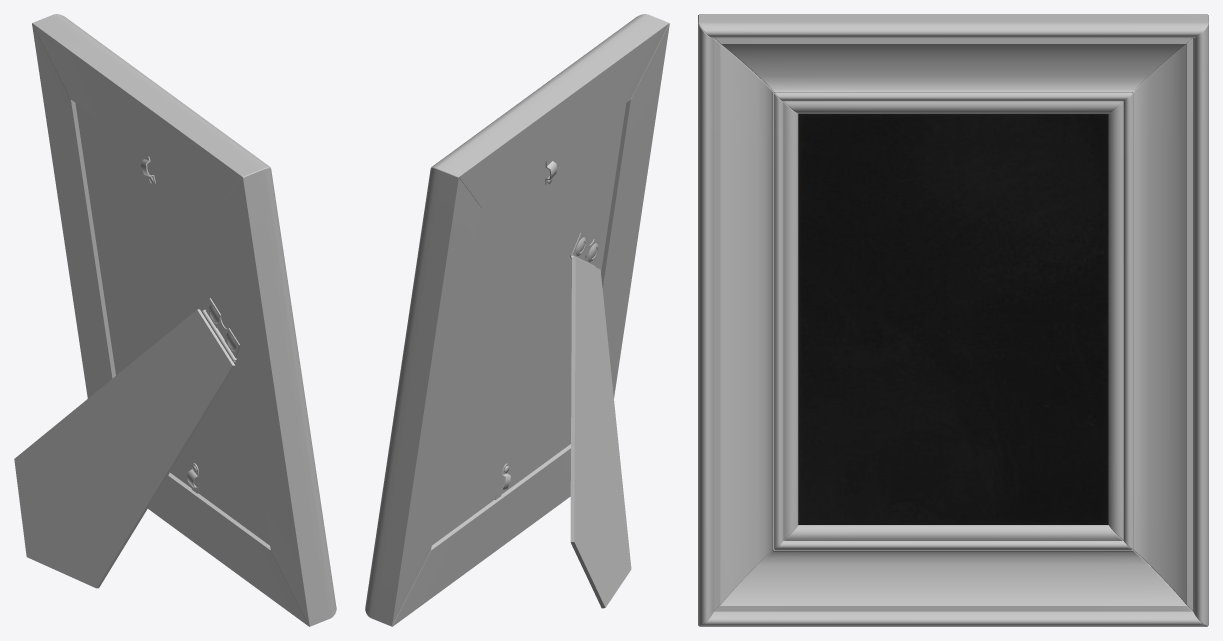
File: standing_picture_frame_02.obj
3 views of the same model, side by side, from view 1: azimuth 30°, elevation 25°; view 2: azimuth 150°, elevation 25°; view 3: azimuth 270°, elevation 25° (orthographic). The views are drawn at different scales.
Visible parts, largest first — view 1: standing_picture_frame_02_1; view 2: standing_picture_frame_02_1; view 3: standing_picture_frame_02_1, standing_picture_frame_02_2.
Part boxes in pixels (x1=…): standing_picture_frame_02_1: x1=14, y1=14, x2=336, y2=626; standing_picture_frame_02_1: x1=365, y1=14, x2=669, y2=626; standing_picture_frame_02_1: x1=698, y1=14, x2=1208, y2=626; standing_picture_frame_02_2: x1=798, y1=113, x2=1108, y2=524.
Size of the model in its own units: 0.1023 by 0.2664 by 0.2169.
